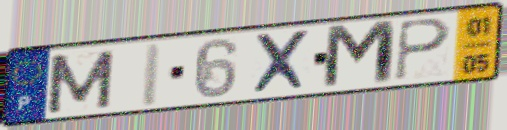6: (193, 36, 240, 101)
I: (137, 40, 166, 110)
M: (320, 17, 400, 93), (44, 47, 118, 116)
P: (393, 16, 453, 84)
X: (250, 27, 313, 97)
